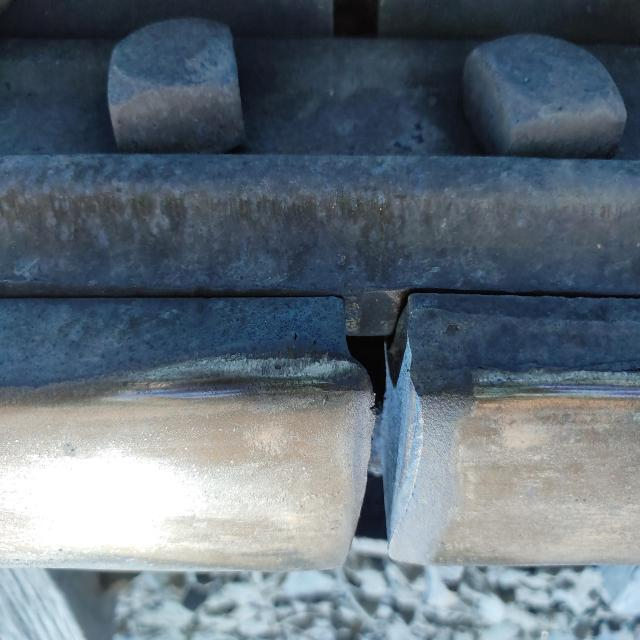railway_join_bar_defects_low: (336, 292, 423, 584)
